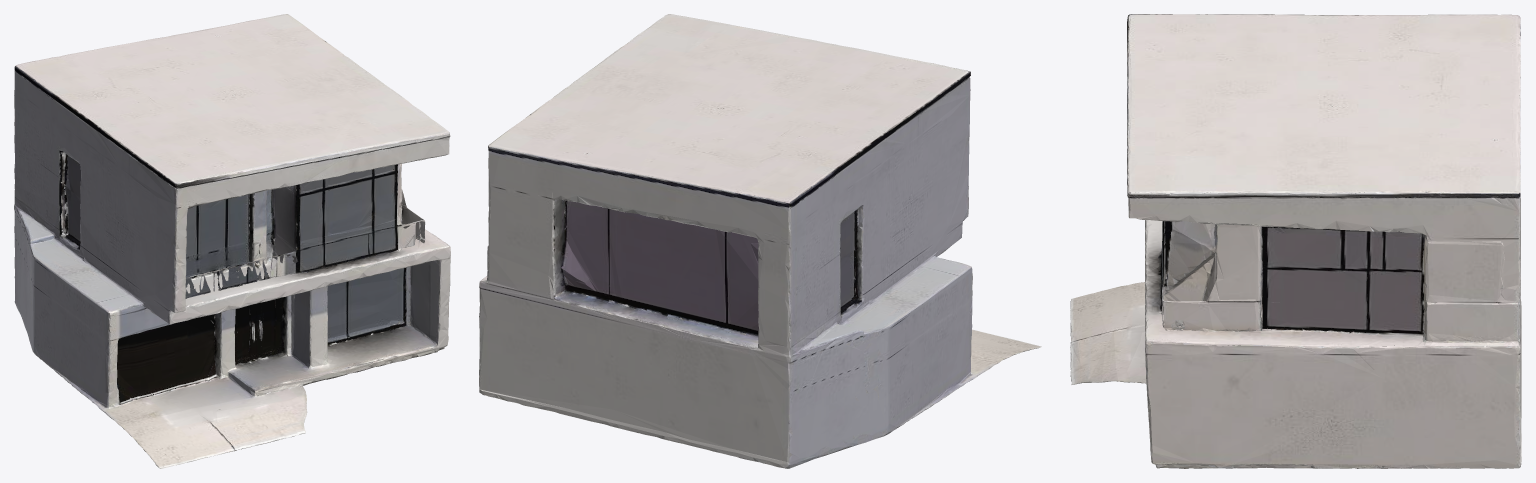
Rendered from safehouse.glb.
3 renders of one model, left to right at view 1: azimuth 30°, elevation 25°; view 2: azimuth 150°, elevation 25°; view 3: azimuth 270°, elevation 25°, orthographic. The views are drawn at different scales.
Parts seen in each view (by area): view 1: world; view 2: world; view 3: world.
Boxes of the visible parts, box(x1,y1,x2,y2) form: world: box(14, 14, 450, 468); world: box(479, 14, 1041, 468); world: box(1070, 14, 1521, 468).
Bounding box in the file's own units: 1.98 × 1.5 × 1.99.
1 material, 1 textured.
